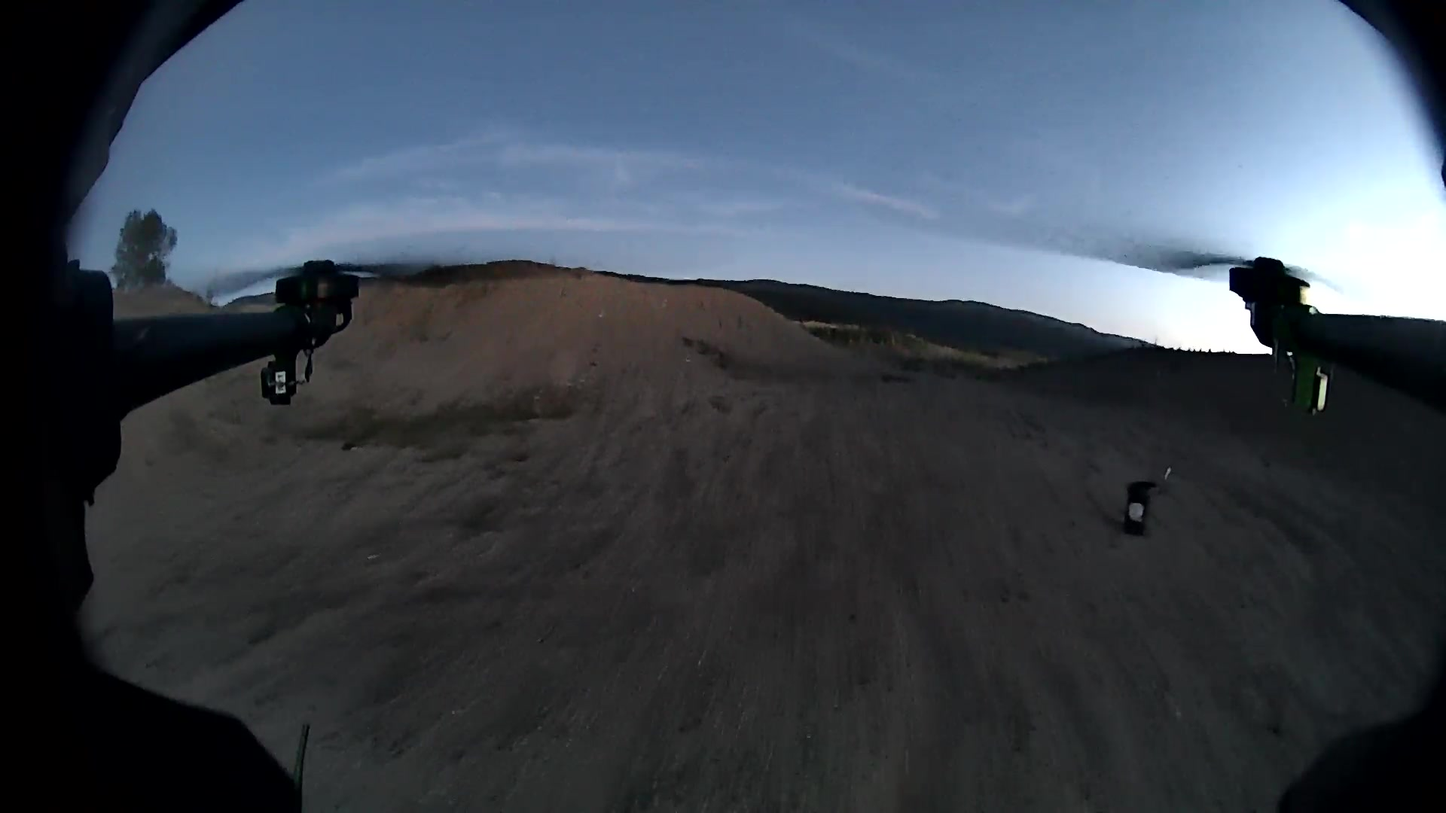Target: (1129, 503, 1144, 521)
